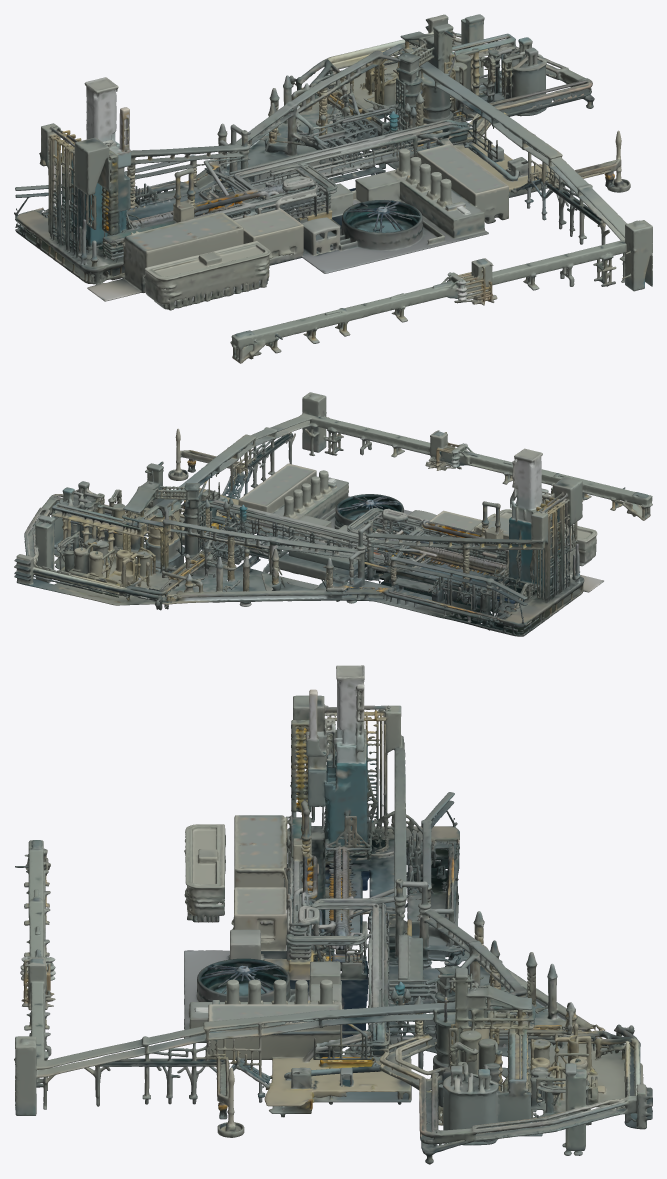
File: drp.glb
The picture shows the model from 3 angles, top to bottom: view 1: azimuth 30°, elevation 25°; view 2: azimuth 150°, elevation 25°; view 3: azimuth 270°, elevation 25°; orthographic projection. The views are drawn at different scales.
Bounding box in the file's own units: 0.9949 × 0.3528 × 0.849.
